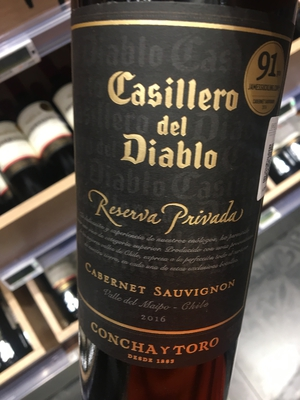casillero del diablo reserva privada cabernet sauvignon: (61, 3, 298, 390)
